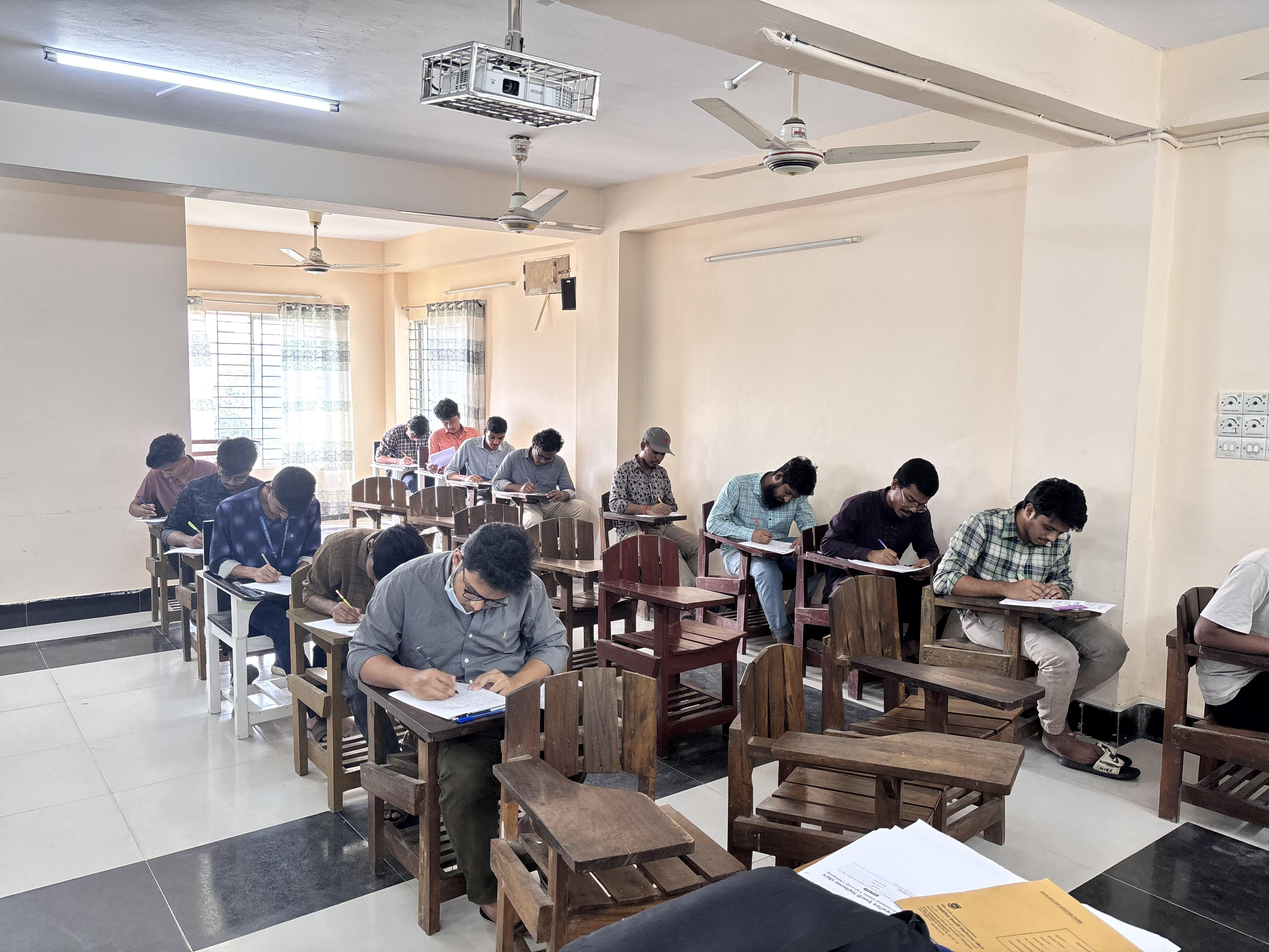no_cheating: (359, 520, 590, 772), (951, 458, 1143, 746), (831, 441, 977, 630), (699, 418, 837, 611), (214, 461, 326, 609), (302, 507, 428, 626), (607, 425, 695, 560), (127, 430, 206, 545), (177, 428, 264, 522), (495, 427, 575, 518), (454, 417, 510, 496), (370, 408, 439, 470), (426, 395, 476, 469)
